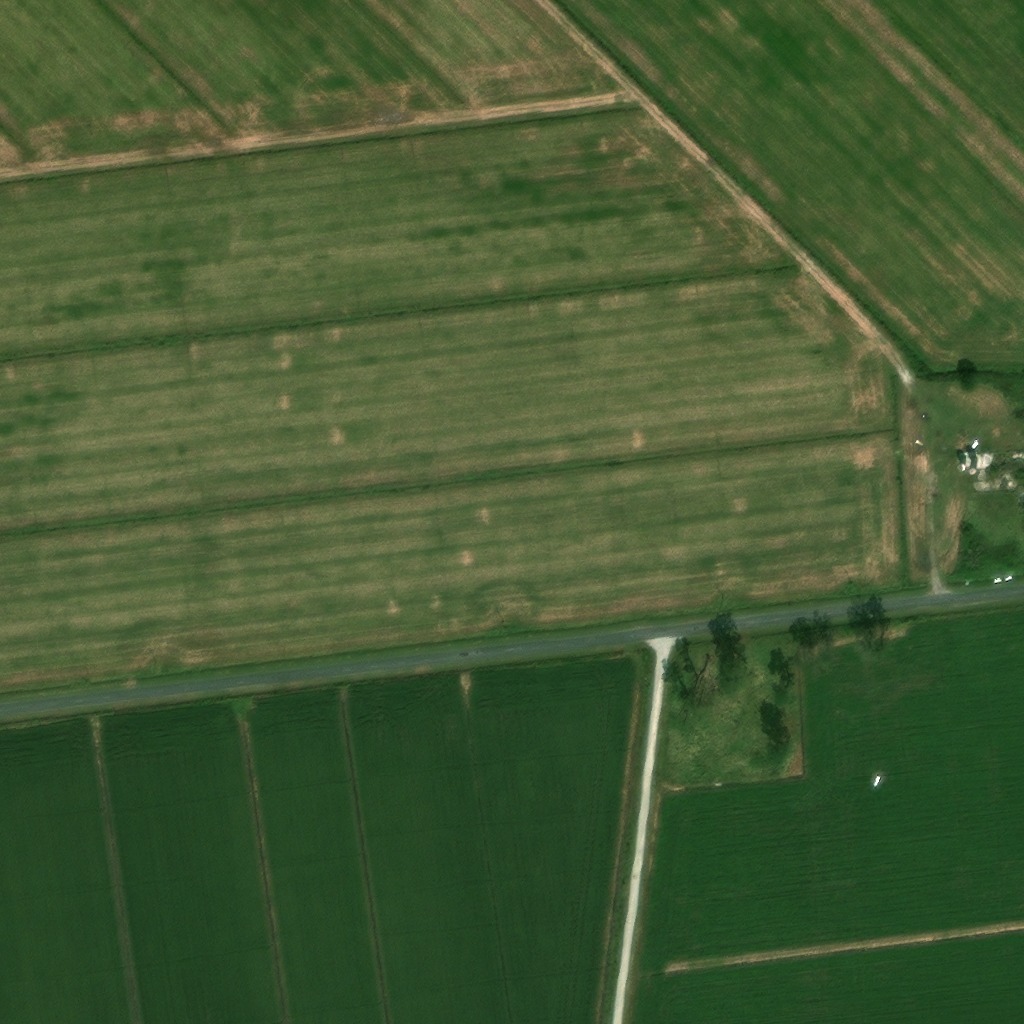no_damage: (963, 463, 971, 470), (971, 463, 979, 469)
